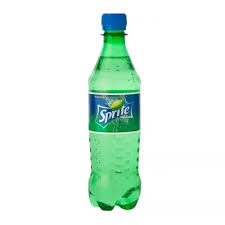sprite_bottle: (88, 12, 141, 211)
